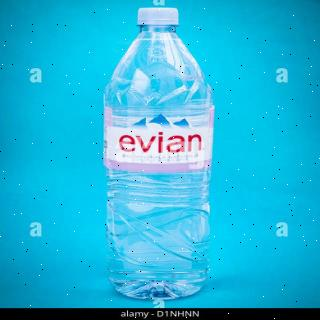Plastic-bottle: (101, 8, 223, 304)
